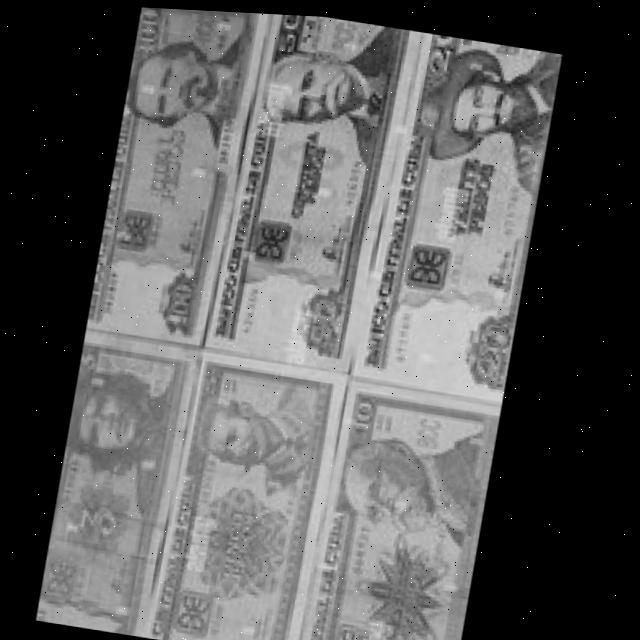banknote: (360, 24, 561, 393), (205, 9, 410, 366), (90, 4, 275, 348), (162, 347, 341, 640), (41, 335, 203, 637), (309, 381, 492, 640)
